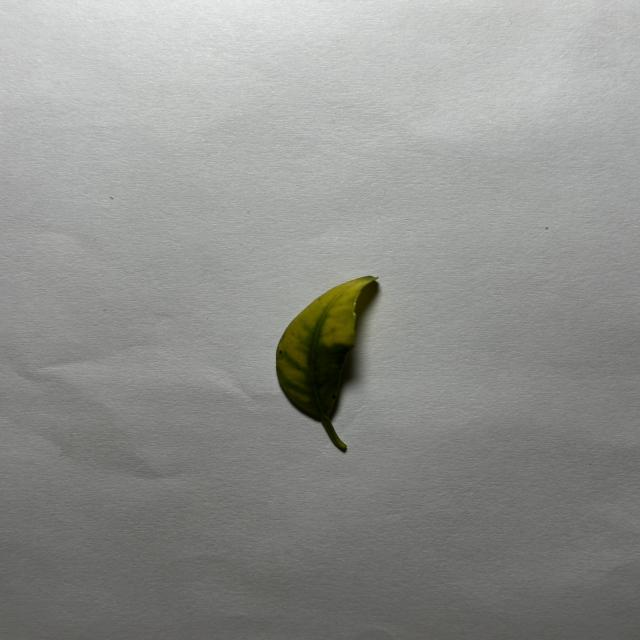greening: (276, 276, 376, 451)
